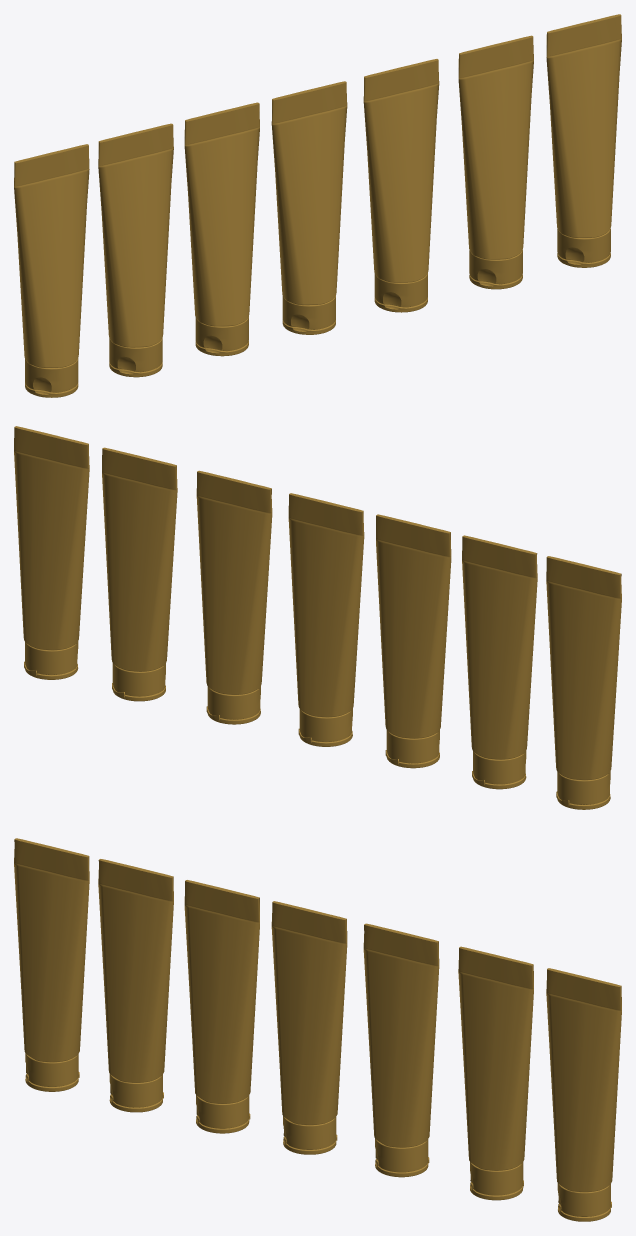
File: environmentproject_painttube.fbx
The picture shows the model from 3 angles, top to bottom: view 1: azimuth 30°, elevation 25°; view 2: azimuth 150°, elevation 25°; view 3: azimuth 330°, elevation 25°; orthographic projection.
Visible parts, largest first — view 1: Painttube_a_GEO_05, Painttube_a_GEO_06, Painttube_a_GEO_03, Painttube_a_GEO_07, Painttube_a_GEO_04, Painttube_a_GEO_02, Painttube_a_GEO_01; view 2: Painttube_a_GEO_07, Painttube_a_GEO_02, Painttube_a_GEO_04, Painttube_a_GEO_03, Painttube_a_GEO_01, Painttube_a_GEO_05, Painttube_a_GEO_06; view 3: Painttube_a_GEO_02, Painttube_a_GEO_07, Painttube_a_GEO_01, Painttube_a_GEO_03, Painttube_a_GEO_04, Painttube_a_GEO_05, Painttube_a_GEO_06.
Boxes of the visible parts, x1,y1,x2,y2 form: Painttube_a_GEO_05: [98, 123, 173, 377]; Painttube_a_GEO_06: [546, 14, 621, 267]; Painttube_a_GEO_03: [458, 35, 533, 289]; Painttube_a_GEO_07: [14, 144, 89, 397]; Painttube_a_GEO_04: [184, 102, 259, 356]; Painttube_a_GEO_02: [363, 59, 439, 312]; Painttube_a_GEO_01: [271, 81, 347, 334]; Painttube_a_GEO_07: [546, 556, 621, 809]; Painttube_a_GEO_02: [196, 470, 272, 724]; Painttube_a_GEO_04: [376, 514, 451, 768]; Painttube_a_GEO_03: [102, 447, 177, 701]; Painttube_a_GEO_01: [288, 493, 364, 746]; Painttube_a_GEO_05: [462, 535, 537, 789]; Painttube_a_GEO_06: [14, 426, 89, 679]; Painttube_a_GEO_02: [363, 923, 439, 1177]; Painttube_a_GEO_07: [14, 838, 89, 1091]; Painttube_a_GEO_01: [271, 901, 347, 1154]; Painttube_a_GEO_03: [458, 946, 533, 1200]; Painttube_a_GEO_04: [184, 880, 259, 1133]; Painttube_a_GEO_05: [98, 859, 173, 1112]; Painttube_a_GEO_06: [546, 968, 621, 1221].
Size of the model in its own units: 61.74 by 22.64 by 4.82.
